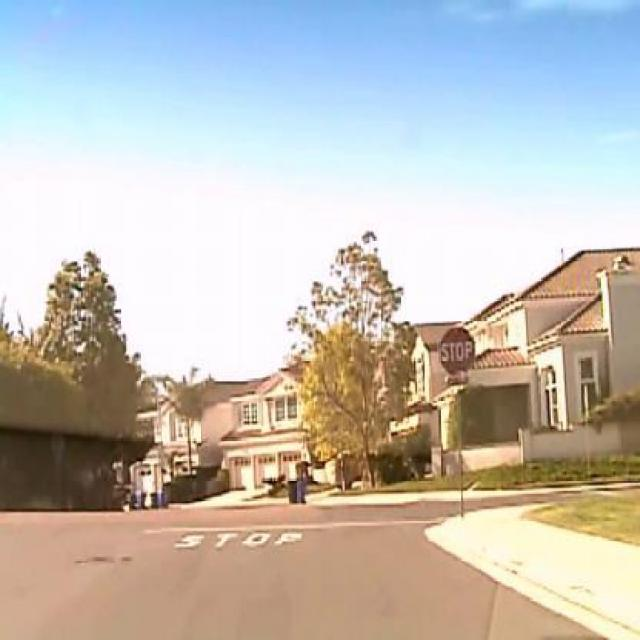Stop: (438, 327, 476, 378)
